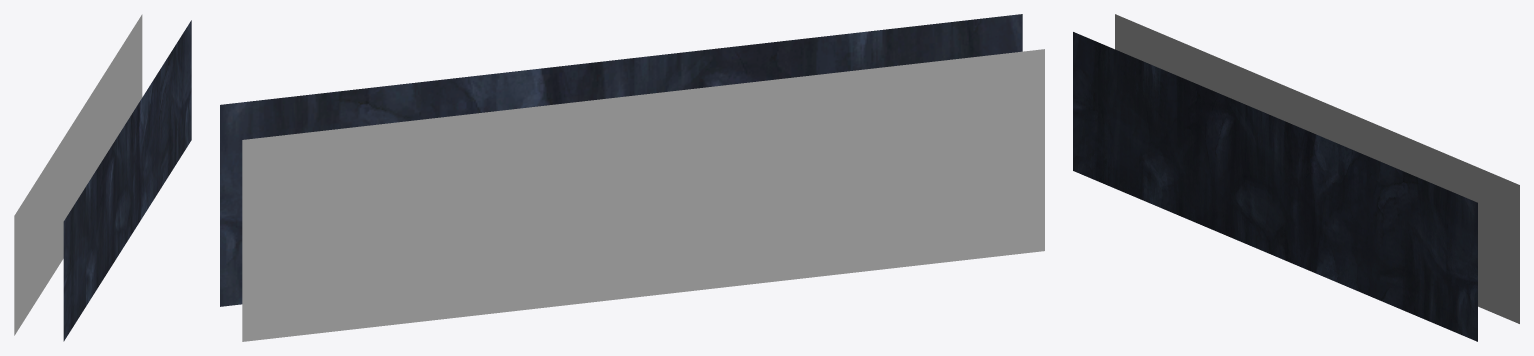
File: mine_quarter_diagonal_01.fbx
3 views of the same model, side by side, from view 1: azimuth 30°, elevation 25°; view 2: azimuth 150°, elevation 25°; view 3: azimuth 270°, elevation 25° (orthographic). The views are drawn at different scales.
Parts seen in each view (by area): view 1: mine_quarter_diagonal_01-0; view 2: mine_quarter_diagonal_01-0; view 3: mine_quarter_diagonal_01-0.
Part boxes in pixels (x1,y1,x2,y2): mine_quarter_diagonal_01-0: [14, 14, 191, 341]; mine_quarter_diagonal_01-0: [220, 14, 1044, 341]; mine_quarter_diagonal_01-0: [1073, 14, 1519, 341].
Bounding box in the file's own units: 4 × 1.38 × 4.
